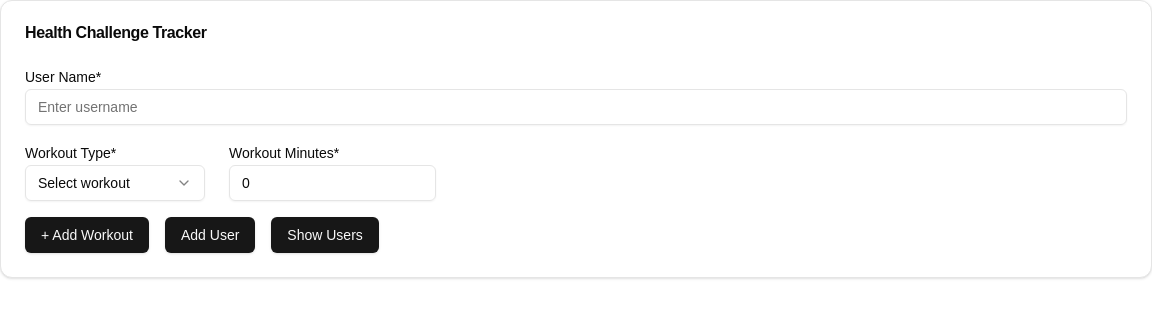
Test: Health Challenge Tracker › paginates users correctly
This screenshot has width=1152, height=322.
Click the button "Show Users": click(325, 235) x1=271 y1=217 x2=379 y2=253
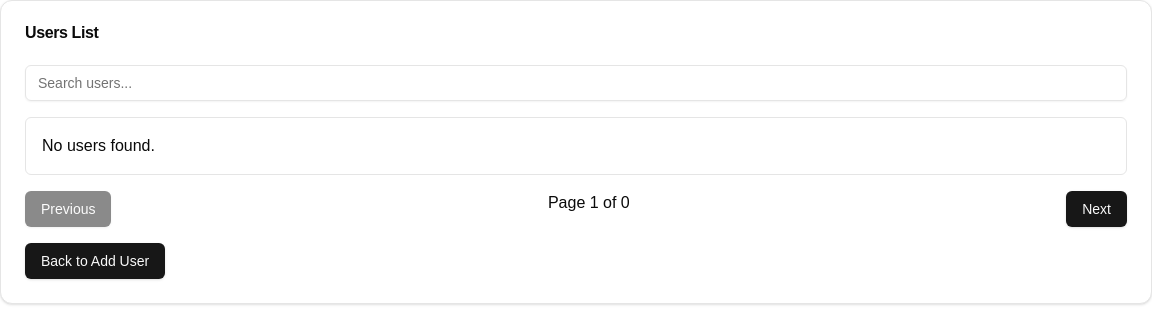
Result: the button "Previous" is disabled at x1=25 y1=191 x2=112 y2=227
